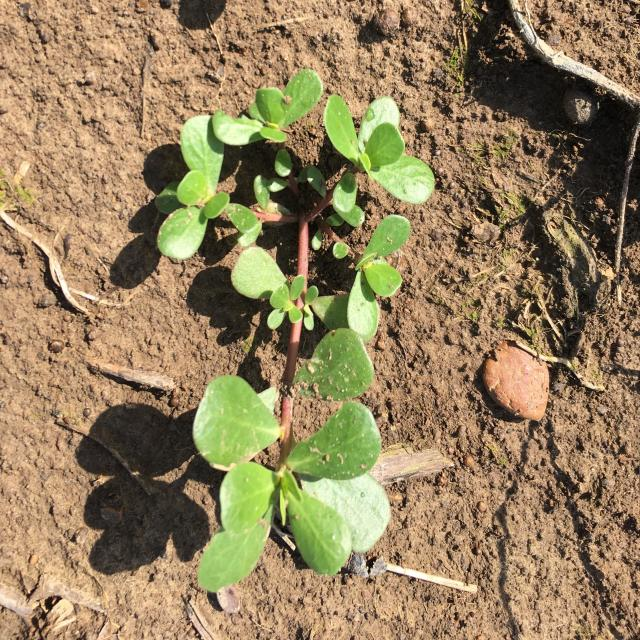Purslane: (156, 69, 434, 593)
